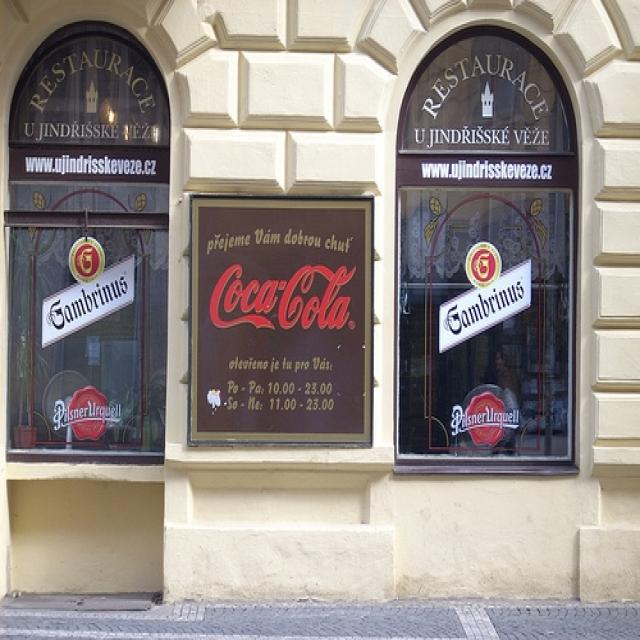cocacola: (203, 257, 361, 341)
